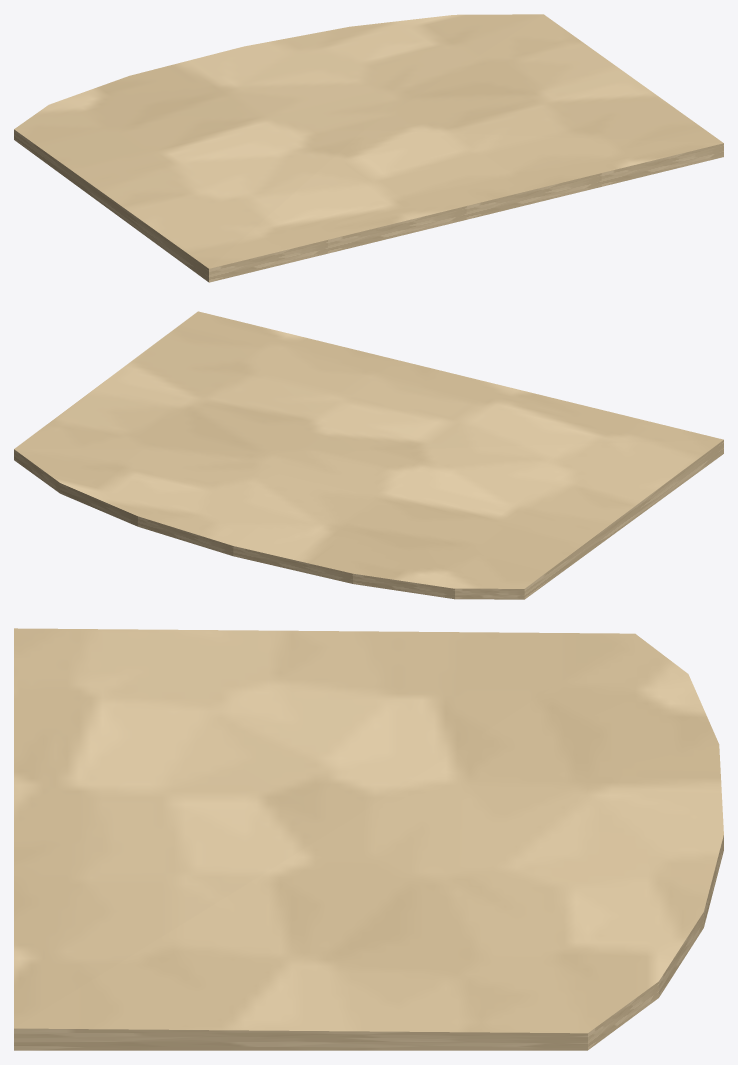
File: sand_patch.glb
The picture shows the model from 3 angles, top to bottom: view 1: azimuth 30°, elevation 25°; view 2: azimuth 150°, elevation 25°; view 3: azimuth 270°, elevation 25°; orthographic projection. The views are drawn at different scales.
Visible parts, largest first — view 1: beach_sand_patch; view 2: beach_sand_patch; view 3: beach_sand_patch.
Boxes of the visible parts, box(x1,y1,x2,y2) form: beach_sand_patch: box(14, 14, 723, 282); beach_sand_patch: box(14, 311, 723, 599); beach_sand_patch: box(14, 628, 723, 1050).
Size of the model in its own units: 8 by 0.22 by 6.
Materials: 1 (1 with a texture image).
